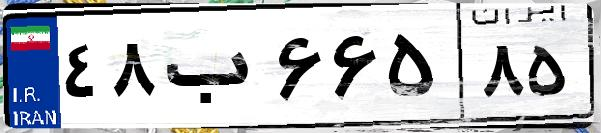4: (57, 26, 110, 100)
5: (385, 28, 445, 110), (525, 38, 570, 115)
6: (270, 28, 330, 110), (330, 28, 385, 110)
8: (475, 38, 525, 113), (110, 28, 158, 98)
ب: (158, 20, 270, 120)
